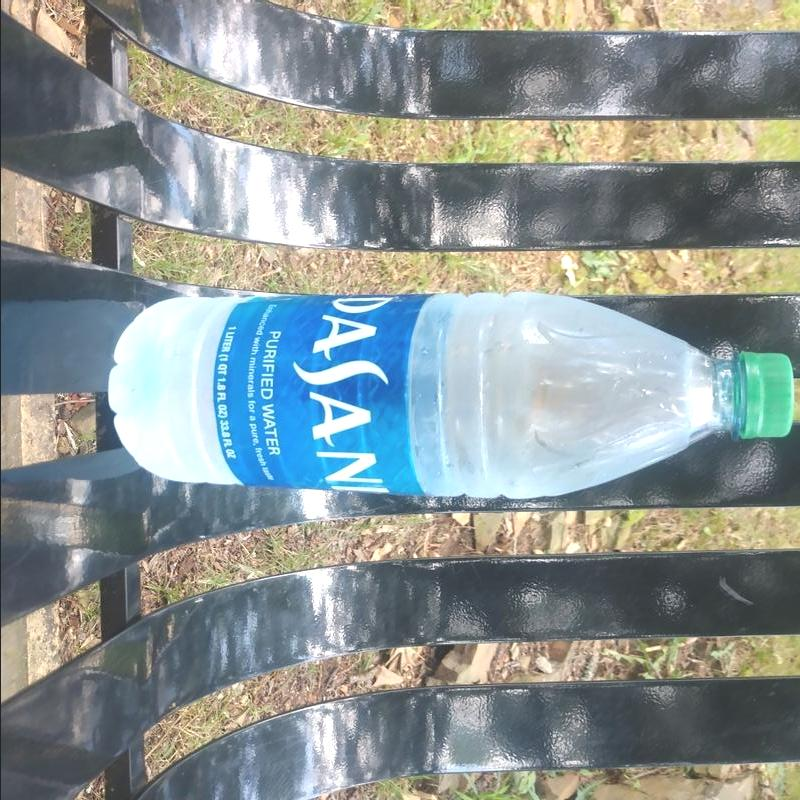bottle: (99, 272, 800, 521)
